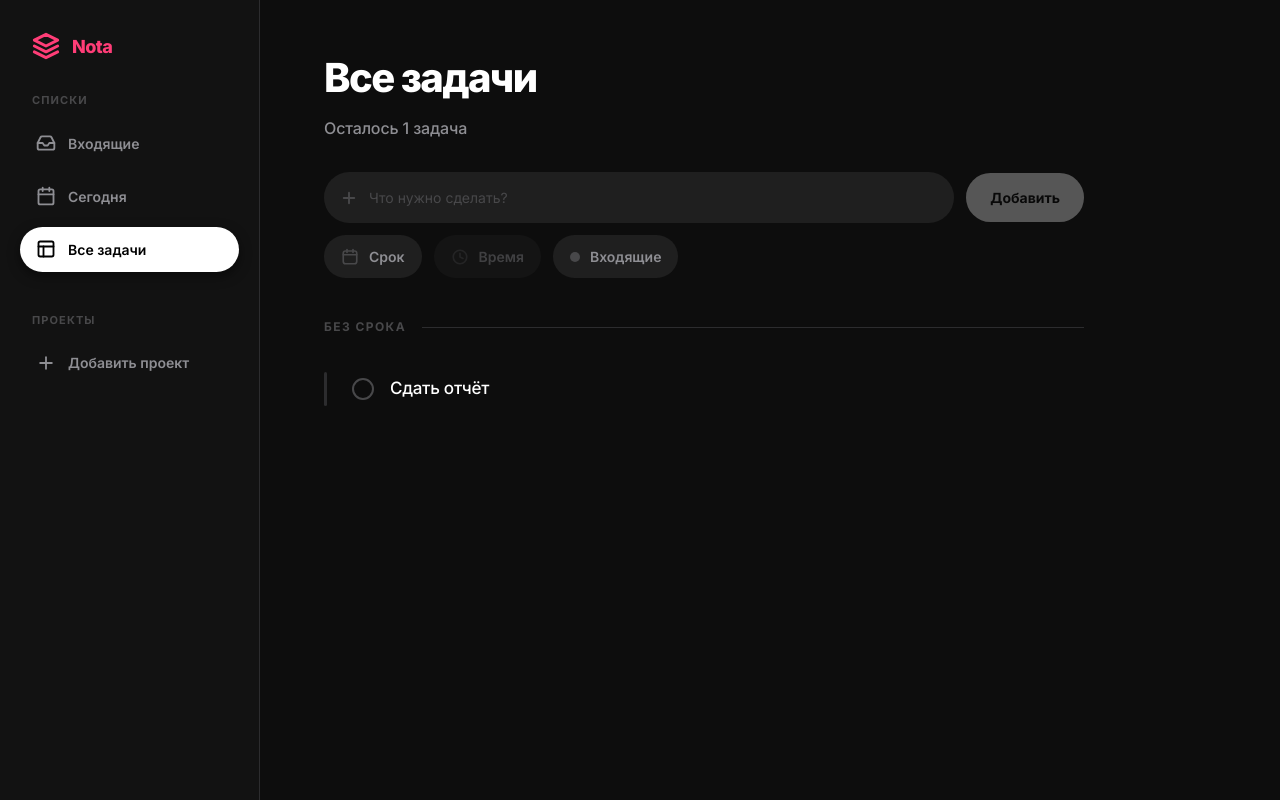
попап ошибки › показывает сообщение попапом, а не строкой в ленте
The width and height of the screenshot is (1280, 800).
Click the checkbox named "Сдать отчёт": coordinates (363, 389) [352,378,374,400]
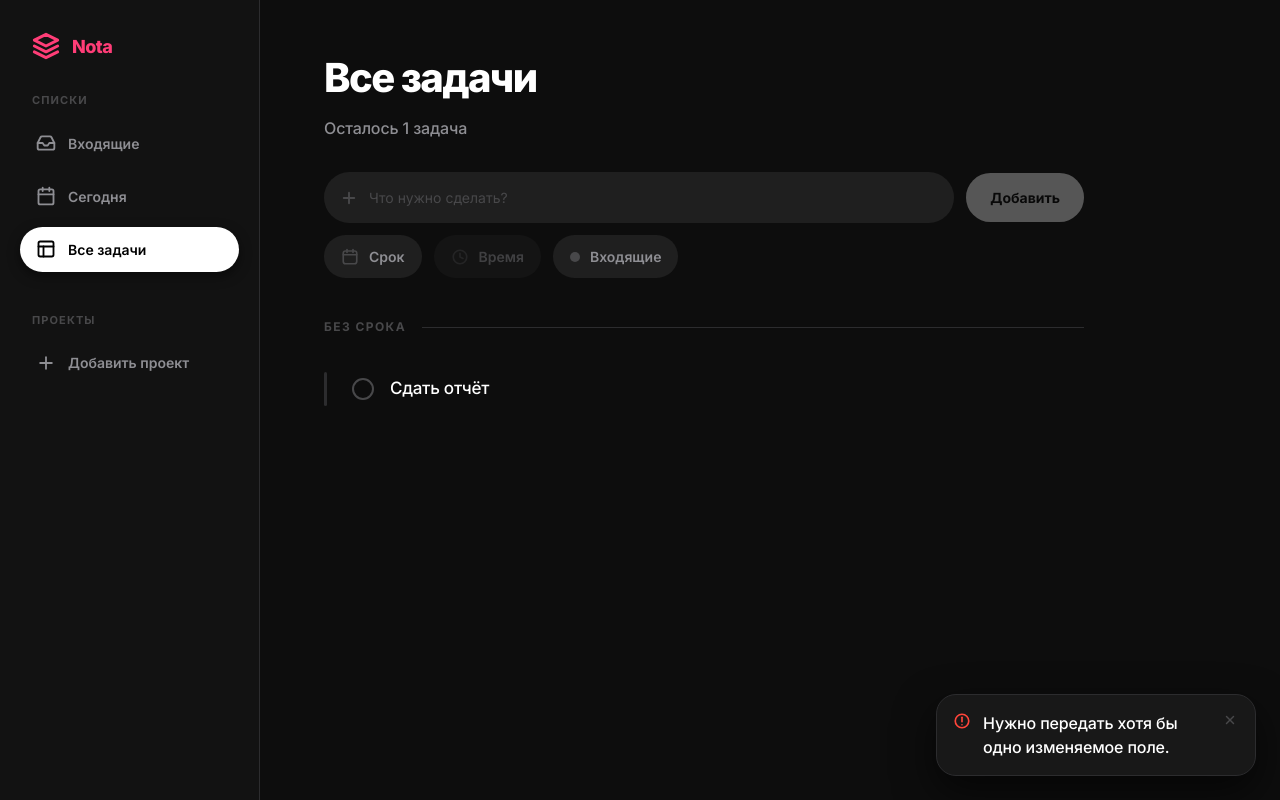
Expected: the text "Нужно передать хотя бы одно изменяемое поле." is shown, [936,694,1256,776]
